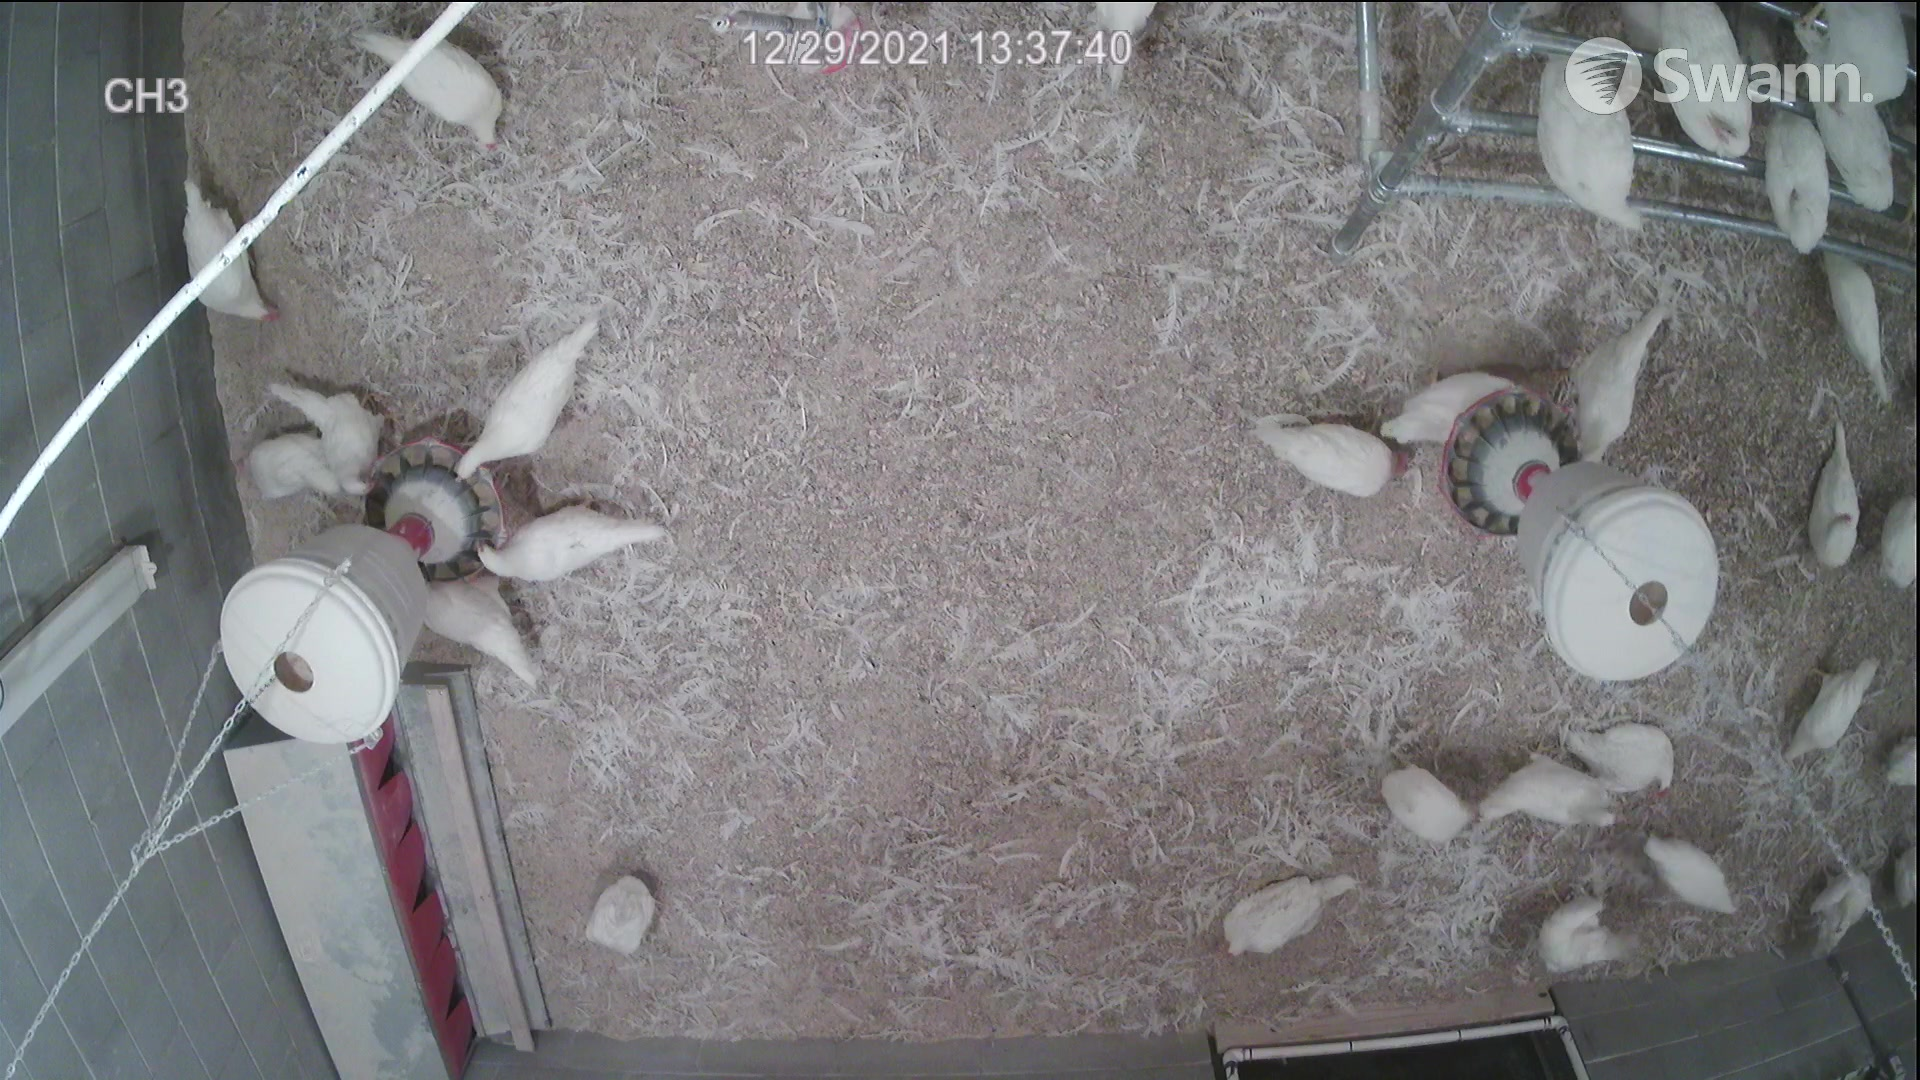Dust Bathing: (1225, 865, 1361, 967)
Feeding: (443, 320, 608, 491), (459, 497, 662, 596), (265, 372, 377, 498)
Foraging: (345, 15, 509, 146), (1266, 411, 1403, 498), (583, 877, 673, 957)
Perching: (1542, 45, 1651, 233), (1639, 0, 1745, 149), (1764, 105, 1837, 255), (1825, 87, 1898, 211)
Preening: (1539, 895, 1634, 981)
